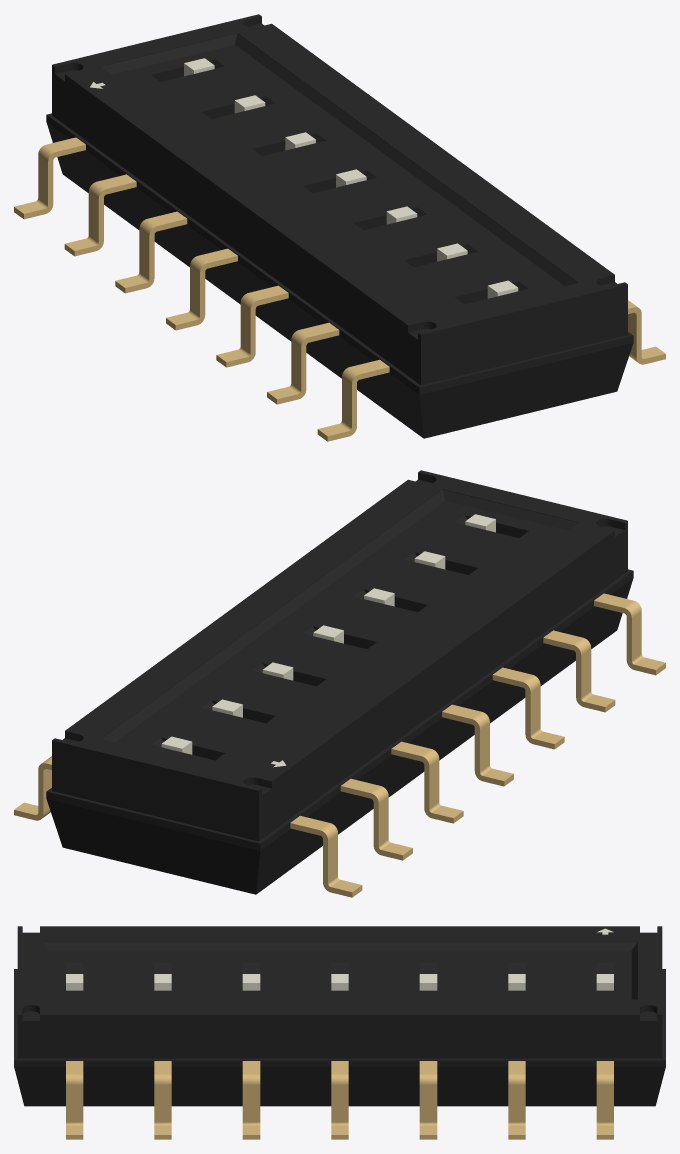
File: kc-sw_dip_spstx07_slide_omron_a6s-710x_w8.9mm_p2.54mm.glb
3 views of the same model, one above another, from view 1: azimuth 30°, elevation 25°; view 2: azimuth 150°, elevation 25°; view 3: azimuth 270°, elevation 25° (orthographic). The views are drawn at different scales.
Parts seen in each view (by area): view 1: 0_0_0_0, 0.75_0.5_0.25_0.9, 0.75_0.75_0.6666666666666666_0; view 2: 0_0_0_0, 0.75_0.5_0.25_0.9, 0.75_0.75_0.6666666666666666_0; view 3: 0_0_0_0, 0.75_0.5_0.25_0.9, 0.75_0.75_0.6666666666666666_0.
Part boxes in pixels (x1,y1,x2,y2): 0_0_0_0: (46, 14, 633, 438); 0.75_0.5_0.25_0.9: (14, 137, 665, 441); 0.75_0.75_0.6666666666666666_0: (90, 58, 518, 298); 0_0_0_0: (46, 470, 633, 894); 0.75_0.5_0.25_0.9: (14, 593, 665, 897); 0.75_0.75_0.6666666666666666_0: (161, 514, 495, 767); 0_0_0_0: (14, 926, 665, 1106); 0.75_0.5_0.25_0.9: (66, 1061, 613, 1139); 0.75_0.75_0.6666666666666666_0: (66, 928, 613, 990).
Bounding box in the file's own units: 0.98 × 0.3076 × 1.87.
